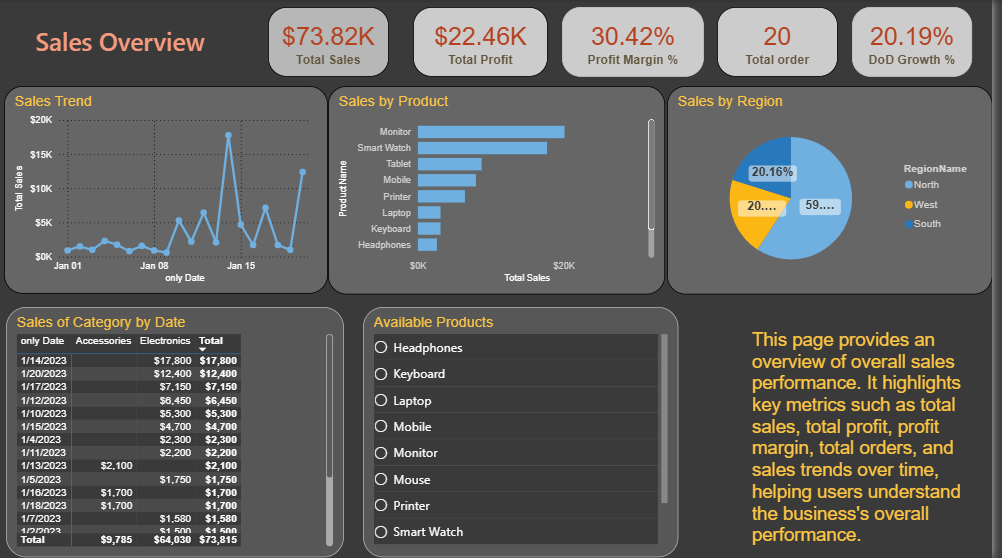

The dashboard page shown, as its layout file describes it:
{"tool":"powerbi","page":{"name":"Summary Page","canvas":[1280,720],"ordinal":0},"visuals":[{"type":"card","fields":{"Values":["Sales.Total Sales"]},"box":[346.3,9.2,155.6,90],"z":0},{"type":"card","fields":{"Values":["Sales.MoM Growth %"]},"box":[1099.4,9,154.8,90.3],"z":1000},{"type":"card","fields":{"Values":["Sales.Profit Margin %"]},"box":[724.7,9.2,183.1,90],"z":2000},{"type":"card","fields":{"Values":["Sales.Total order"]},"box":[924.5,9.2,155.6,90],"z":3000},{"type":"card","fields":{"Values":["Sales.Total Profit"]},"box":[532.4,9.2,173.9,90],"z":4000},{"type":"barChart","title":"Sales by Product","fields":{"Category":["product.ProductName"],"Y":["Sales.Total Sales"]},"box":[423.2,110.6,435.4,268.6],"z":5000},{"type":"pieChart","title":"Sales by Region","fields":{"Category":["Region.RegionName"],"Y":["Sales.Total Sales"]},"box":[860.3,110.5,419.7,268.6],"z":6000},{"type":"pivotTable","title":"Sales of Category by Date","fields":{"Columns":["product.Category"],"Rows":["DateTable.only Date"],"Values":["Sales.Total Sales"]},"box":[7.6,396.7,436.3,323.4],"z":7000},{"type":"lineChart","title":"Sales Trend","fields":{"Category":["DateTable.only Date"],"Y":["Sales.Total Sales"]},"box":[5.4,110.8,418.3,268.2],"z":8000},{"type":"listSlicer","title":"Available Products","fields":{"Values":["product.ProductName"]},"box":[468.4,396.7,407.3,323.4],"z":9000},{"type":"textbox","box":[925.2,419.4,354.8,300.6],"z":10000},{"type":"textbox","box":[23.2,25.8,263.2,73.5],"z":11000}]}

Visuals, with their boxes in screenshot pixels (x1, y1, x2, y2), scaled from the page's 1280x720 canvas onto the 1002x558 screenshot:
card - Sales.Total Sales: 271/7/393/77
card - Sales.MoM Growth %: 861/7/982/77
card - Sales.Profit Margin %: 567/7/711/77
card - Sales.Total order: 724/7/846/77
card - Sales.Total Profit: 417/7/553/77
"Sales by Product" barChart: 331/86/672/294
"Sales by Region" pieChart: 673/86/1001/294
"Sales of Category by Date" pivotTable: 6/307/347/557
"Sales Trend" lineChart: 4/86/332/294
"Available Products" listSlicer: 367/307/686/557
textbox: 724/325/1001/557
textbox: 18/20/224/77
